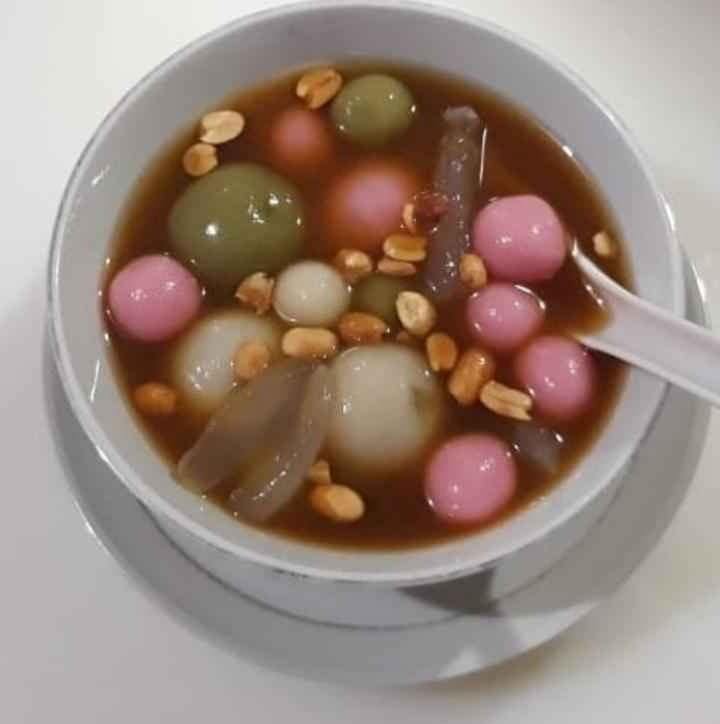ronde: (99, 68, 605, 541)
